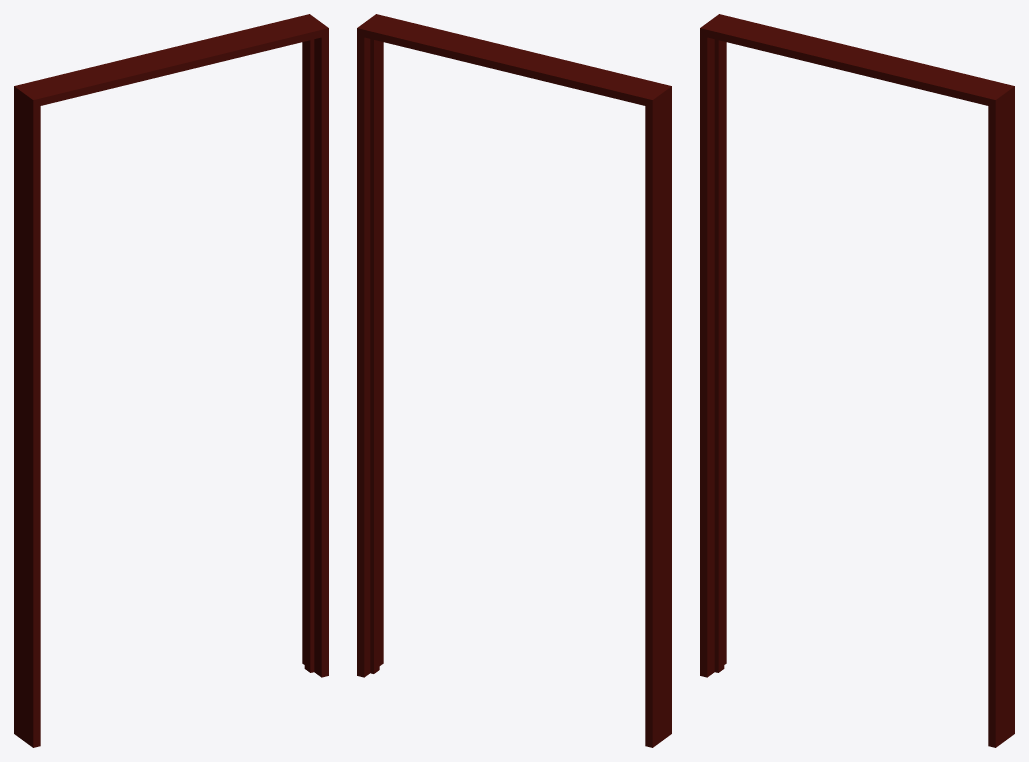
The model's file is Flush_Frame_01.fbx.
The picture shows the model from 3 angles, left to right: view 1: azimuth 30°, elevation 25°; view 2: azimuth 150°, elevation 25°; view 3: azimuth 330°, elevation 25°; orthographic projection.
Parts seen in each view (by area): view 1: Door_Frame_Flush_01; view 2: Door_Frame_Flush_01; view 3: Door_Frame_Flush_01.
Boxes of the visible parts, x1,y1,x2,y2 form: Door_Frame_Flush_01: [14, 14, 328, 747]; Door_Frame_Flush_01: [357, 14, 671, 747]; Door_Frame_Flush_01: [700, 14, 1014, 747].
Size of the model in its own units: 39.96 by 4.5 by 83.66.
